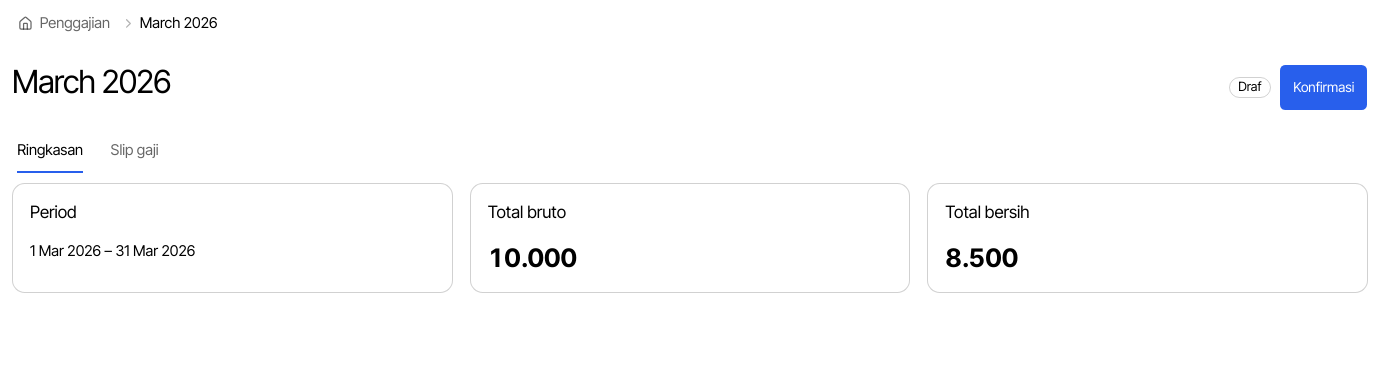
PayrollRunDetail remainder › renders payslip lines with earning and deduction badges
Click the tab "Slip gaji" at (135, 151), box [110, 128, 160, 174]
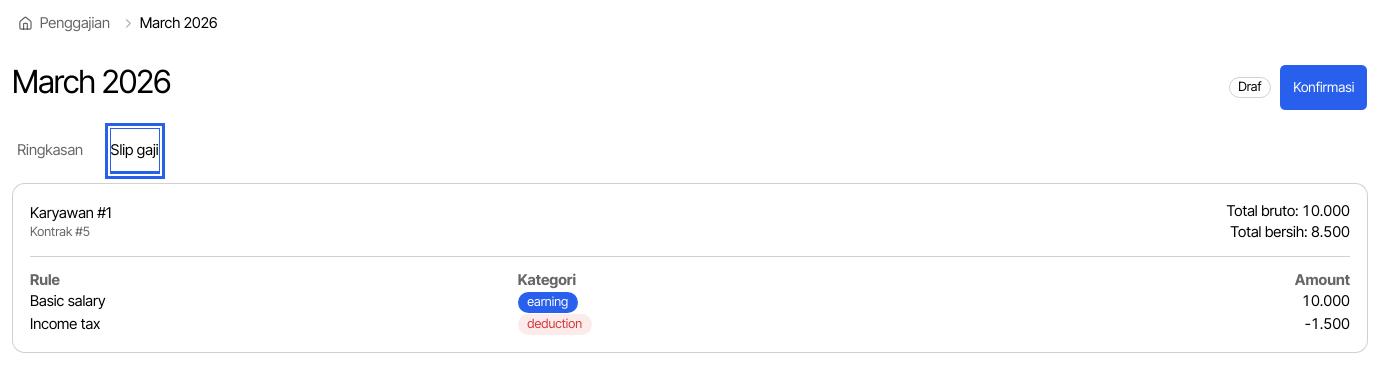
Result: the text "Basic salary" is shown at [30, 291, 518, 313]
Result: the icon "earning" is shown at [518, 292, 578, 313]
Result: the button "deduction" is shown at [518, 314, 592, 335]
